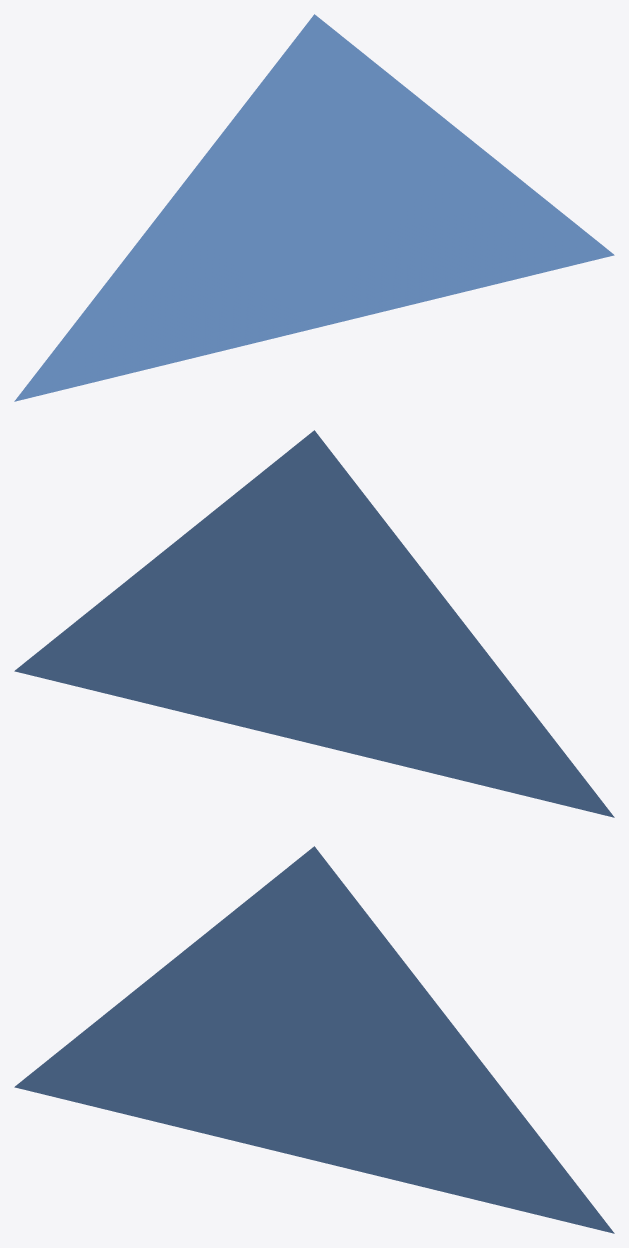
The model's file is M0Triangle.glb.
3 views of the same model, one above another, from view 1: azimuth 30°, elevation 25°; view 2: azimuth 150°, elevation 25°; view 3: azimuth 330°, elevation 25° (orthographic).
Visible parts, largest first — view 1: M0Triangle; view 2: M0Triangle; view 3: M0Triangle.
Boxes of the visible parts, left/top/right/bottom form: M0Triangle: left=14, top=14, right=614, bottom=401; M0Triangle: left=14, top=430, right=614, bottom=817; M0Triangle: left=14, top=846, right=614, bottom=1233.
Size of the model in its own units: 2 by 1 by 0.
